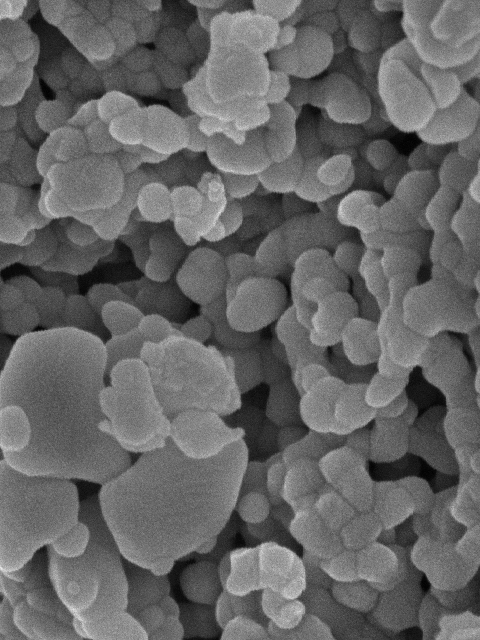nano: (1, 404, 35, 454), (136, 181, 174, 222)
